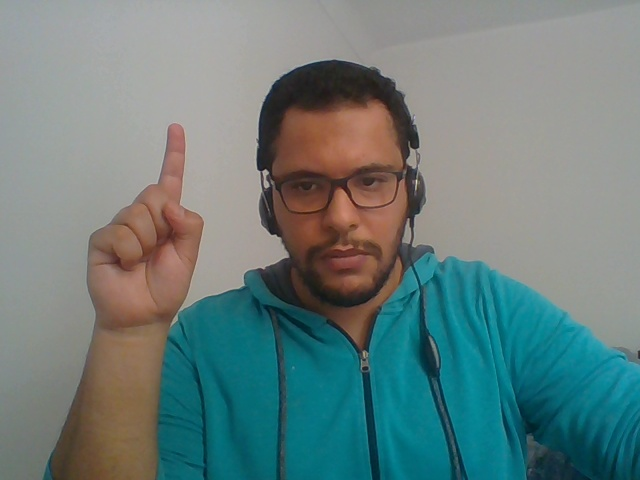handup: (63, 106, 216, 458)
